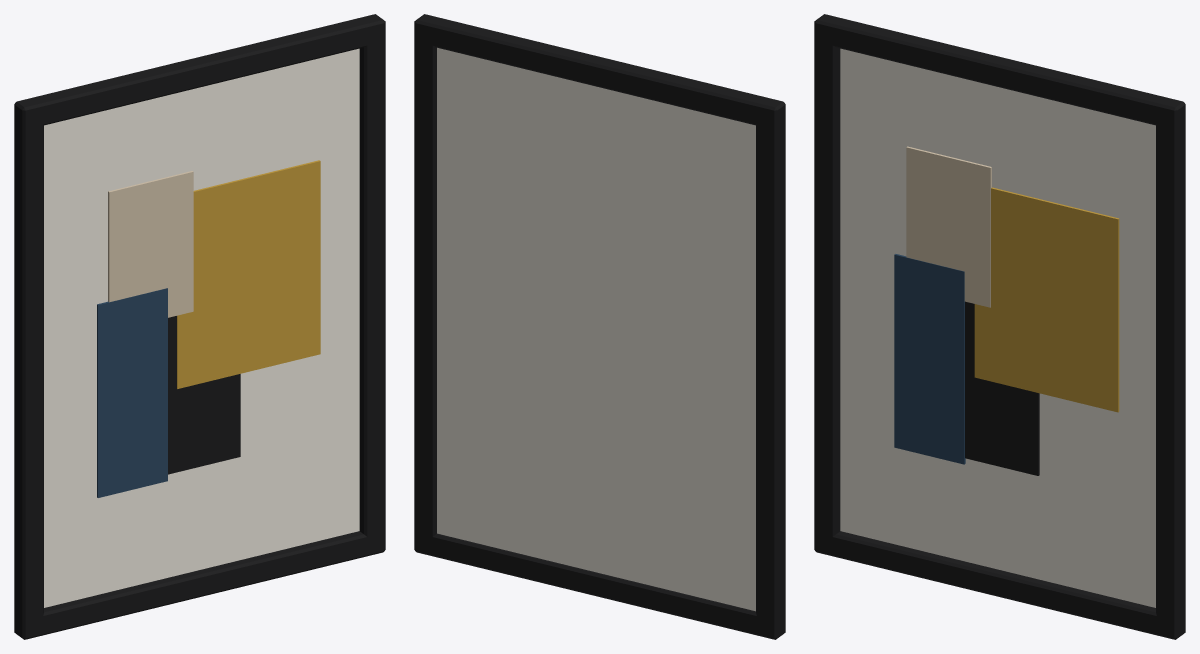
The model's file is i_pic_0.glb.
3 views of the same model, side by side, from view 1: azimuth 30°, elevation 25°; view 2: azimuth 150°, elevation 25°; view 3: azimuth 330°, elevation 25° (orthographic).
Visible parts, largest first — view 1: o.004, o.006, o.002, o.008, o.003, o.001, o.007, o, o.005; view 2: o.004, o.002, o.003, o.001, o; view 3: o.004, o.006, o.003, o.008, o.002, o.001, o.007, o, o.005.
Part boxes in pixels (left/top/right/bottom): o.004: left=44, top=48, right=359, bottom=607; o.006: left=177, top=160, right=320, bottom=388; o.002: left=14, top=103, right=43, bottom=639; o.008: left=97, top=288, right=167, bottom=497; o.003: left=359, top=23, right=385, bottom=553; o.001: left=14, top=14, right=385, bottom=128; o.007: left=108, top=171, right=193, bottom=317; o: left=14, top=531, right=385, bottom=639; o.005: left=168, top=316, right=240, bottom=474; o.004: left=437, top=47, right=755, bottom=611; o.002: left=756, top=102, right=785, bottom=639; o.003: left=414, top=22, right=436, bottom=551; o.001: left=414, top=14, right=785, bottom=128; o: left=414, top=532, right=785, bottom=639; o.004: left=840, top=48, right=1155, bottom=607; o.006: left=974, top=187, right=1119, bottom=412; o.003: left=1156, top=102, right=1185, bottom=639; o.008: left=894, top=254, right=965, bottom=464; o.002: left=814, top=22, right=840, bottom=551; o.001: left=814, top=14, right=1185, bottom=128; o.007: left=906, top=146, right=991, bottom=307; o: left=814, top=531, right=1185, bottom=639; o.005: left=965, top=301, right=1039, bottom=475.
Size of the model in its own units: 0.5 by 0.7 by 0.025.
